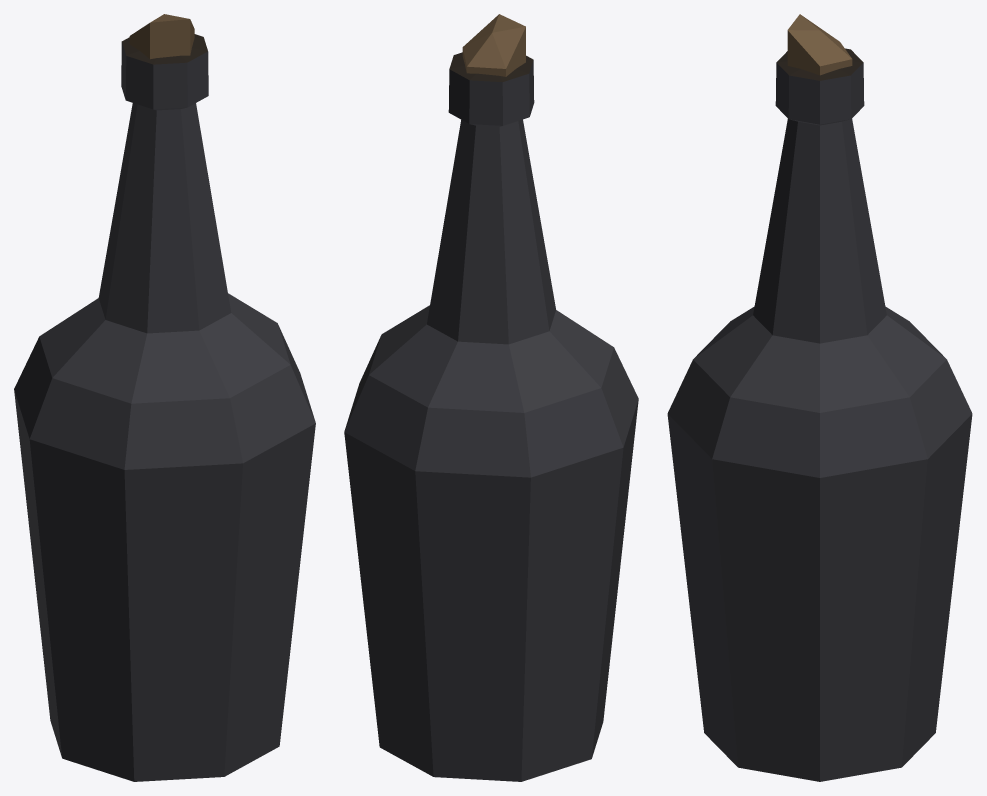
File: Bottle_5.fbx
3 views of the same model, side by side, from view 1: azimuth 30°, elevation 25°; view 2: azimuth 150°, elevation 25°; view 3: azimuth 270°, elevation 25° (orthographic). The views are drawn at different scales.
Parts seen in each view (by area): view 1: polySurface2957; view 2: polySurface2957; view 3: polySurface2957.
Boxes of the visible parts, x1,y1,x2,y2 form: polySurface2957: (14, 14, 315, 781); polySurface2957: (344, 14, 638, 781); polySurface2957: (667, 14, 972, 781).
Bounding box in the file's own units: 28.59 × 73.12 × 28.59.
